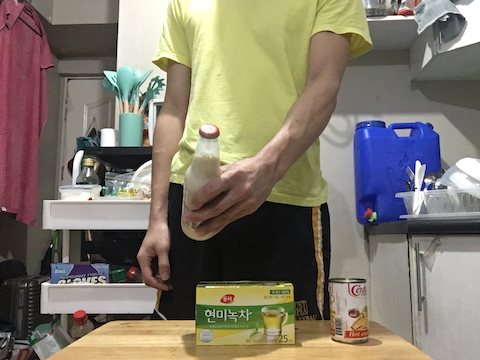bottle: (180, 122, 229, 244)
box: (193, 277, 299, 351)
can: (327, 274, 373, 347)
grab: (180, 161, 257, 245)
